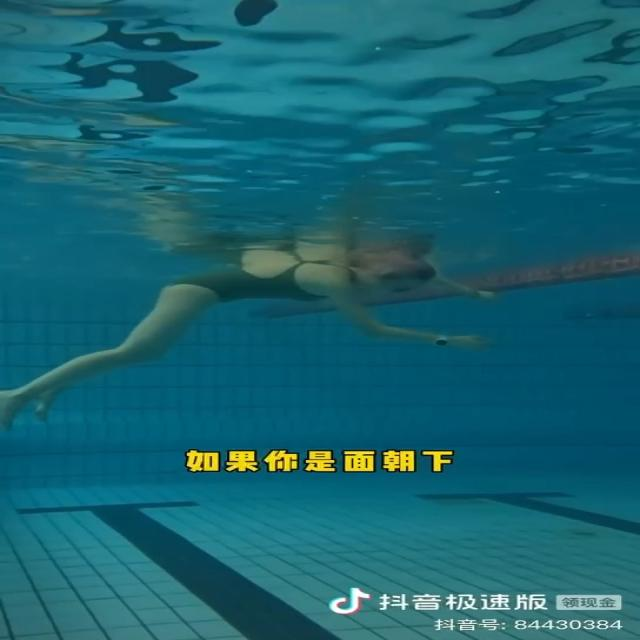Drowning: (5, 250, 494, 430)
